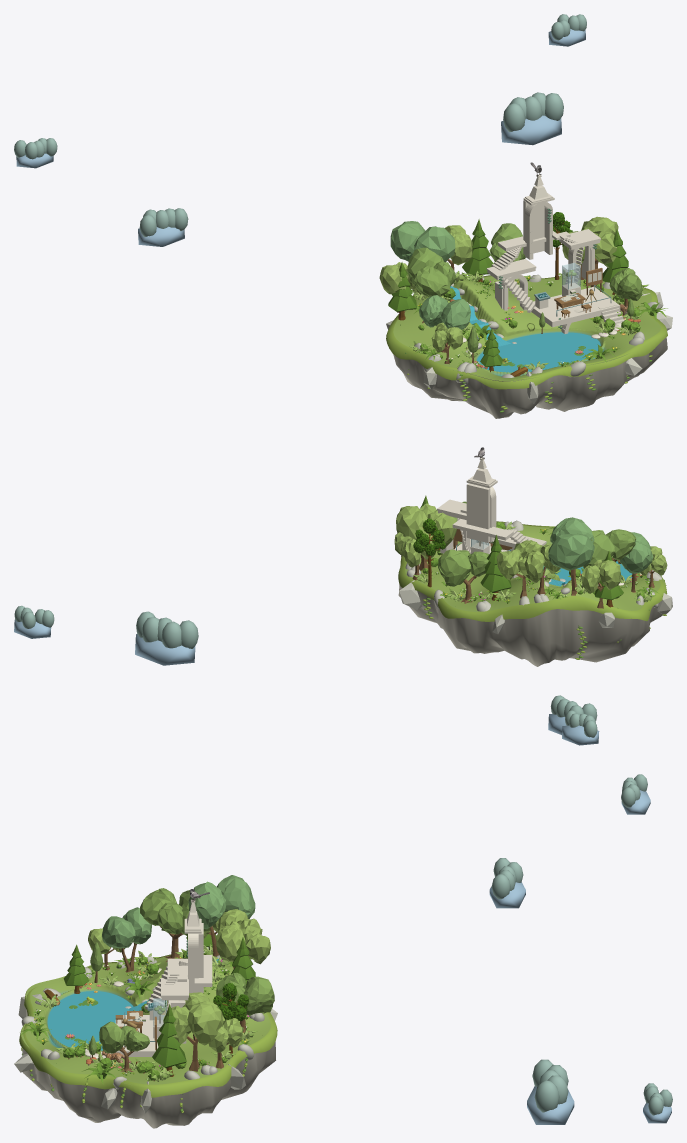
File: island.glb
3 views of the same model, one above another, from view 1: azimuth 30°, elevation 25°; view 2: azimuth 150°, elevation 25°; view 3: azimuth 270°, elevation 25° (orthographic). The views are drawn at different scales.
Visible parts, largest first — view 1: ISLAND_Topography, ISLAND_LimestoneRootMass, V3 continuous moss edge, V2 WATER Living lake, V3 Tree_double_lush, V3 Tree_Oak_regular, TOWER_WorkTerrace, V3 Tree_double_lush.001, V3 Tree_average_lush.001, V3 distant floating island.001, V3 Tree_Fir_average, V3 Tree_Oak_regular.002 (+8 smaller); view 2: ISLAND_LimestoneRootMass, ISLAND_Topography, V3 continuous moss edge, V3 Tree_double_lush, V3 Tree_Oak_regular.001, V3 Tree_average_lush.001, V3 summit spine, V3 Tree_Oak_regular, V3 distant floating island.001, V3 secondary broadleaf, V3 secondary broadleaf.001, V3 Tree_average_lush (+9 smaller); view 3: ISLAND_Topography, ISLAND_LimestoneRootMass, V3 continuous moss edge, V2 WATER Living lake, V3 Tree_double_lush, V3 Tree_average_lush.001, V3 Tree_Oak_regular, V3 Tree_double_lush.001, V3 Tree_Oak_regular.001, V3 Tree_average_lush, V3 Tree_Oak_regular.002, V3 Tree_Fir_average.001 (+9 smaller).
Part boxes in pixels (box(x1,y1,x2,y2)): ISLAND_Topography: box(393, 276, 660, 380); ISLAND_LimestoneRootMass: box(393, 337, 667, 418); V3 continuous moss edge: box(386, 275, 667, 389); V2 WATER Living lake: box(477, 332, 600, 372); V3 Tree_double_lush: box(390, 221, 455, 294); V3 Tree_Oak_regular: box(407, 247, 456, 323); TOWER_WorkTerrace: box(531, 286, 620, 327); V3 Tree_double_lush.001: box(418, 295, 470, 352); V3 Tree_average_lush.001: box(564, 216, 618, 287); V3 distant floating island.001: box(501, 115, 561, 145); V3 Tree_Fir_average: box(462, 219, 493, 282); V3 Tree_Oak_regular.002: box(609, 268, 642, 306); ISLAND_LimestoneRootMass: box(398, 584, 662, 666); ISLAND_Topography: box(405, 522, 665, 611); V3 continuous moss edge: box(398, 521, 667, 621); V3 Tree_double_lush: box(548, 517, 594, 595); V3 Tree_Oak_regular.001: box(438, 549, 489, 603); V3 Tree_average_lush.001: box(396, 503, 457, 570); V3 summit spine: box(466, 483, 490, 542); V3 Tree_Oak_regular: box(583, 529, 635, 569); V3 distant floating island.001: box(135, 634, 195, 665); V3 secondary broadleaf: box(581, 559, 620, 608); V3 secondary broadleaf.001: box(521, 540, 560, 594); V3 Tree_average_lush: box(496, 540, 543, 598); ISLAND_Topography: box(21, 954, 270, 1085); ISLAND_LimestoneRootMass: box(22, 1009, 275, 1128); V3 continuous moss edge: box(19, 954, 277, 1097); V2 WATER Living lake: box(47, 991, 132, 1050); V3 Tree_double_lush: box(188, 875, 255, 956); V3 Tree_average_lush.001: box(163, 992, 222, 1071); V3 Tree_Oak_regular: box(140, 888, 212, 961); V3 Tree_double_lush.001: box(102, 907, 151, 972); V3 Tree_Oak_regular.001: box(216, 972, 274, 1034); V3 Tree_average_lush: box(216, 925, 270, 964); V3 Tree_Oak_regular.002: box(99, 1021, 149, 1072); V3 Tree_Fir_average.001: box(152, 1004, 186, 1076).
Size of the model in its own units: 34.15 by 11.87 by 30.8.
38 materials, 5 textured.
